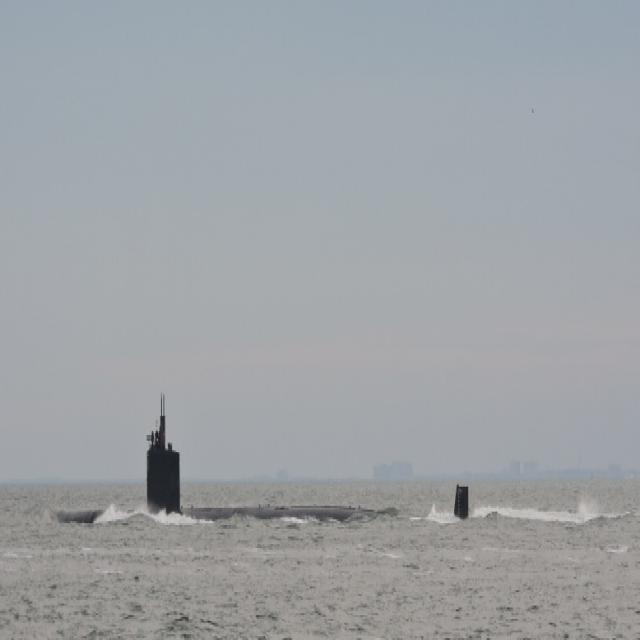submarine: (62, 386, 479, 526)
